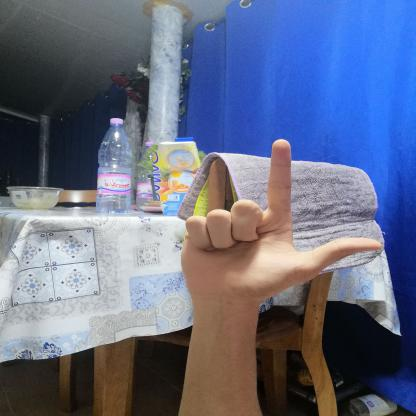LAAM: (165, 130, 396, 322)
